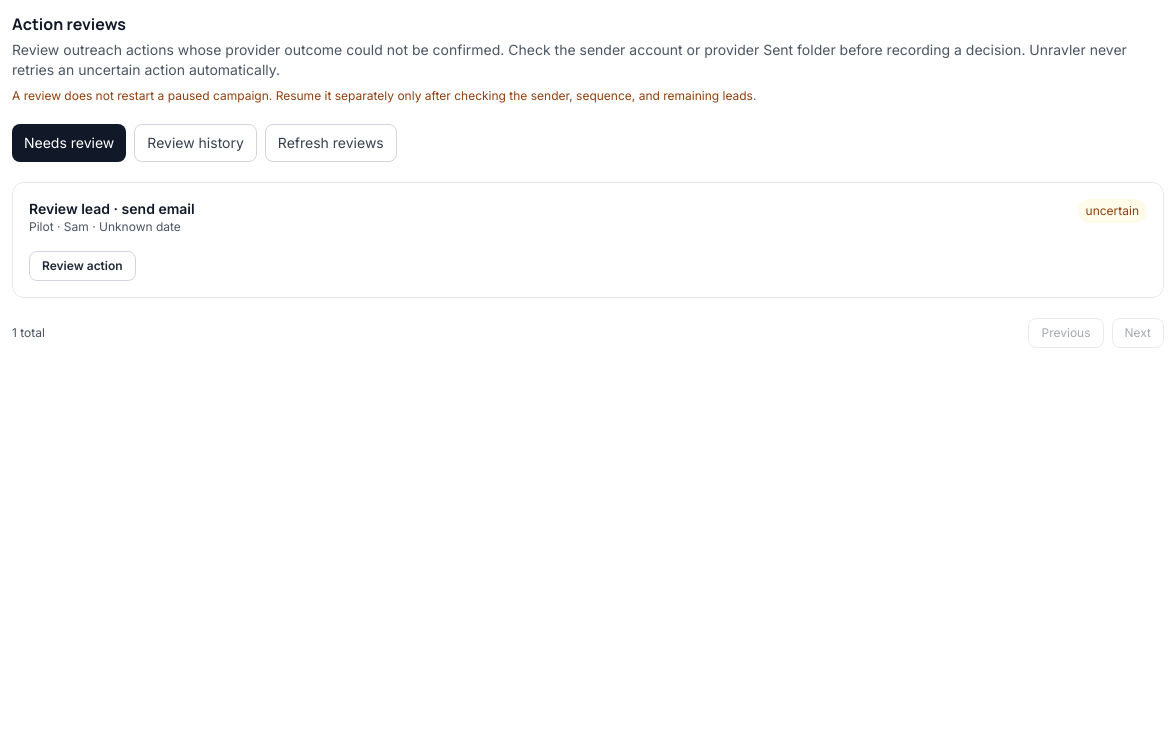
uncertain action review › does not offer a sent assertion when the email operation record is missing
The width and height of the screenshot is (1176, 732).
Click the button "Review action": coordinates (82, 266) [29,251,136,281]
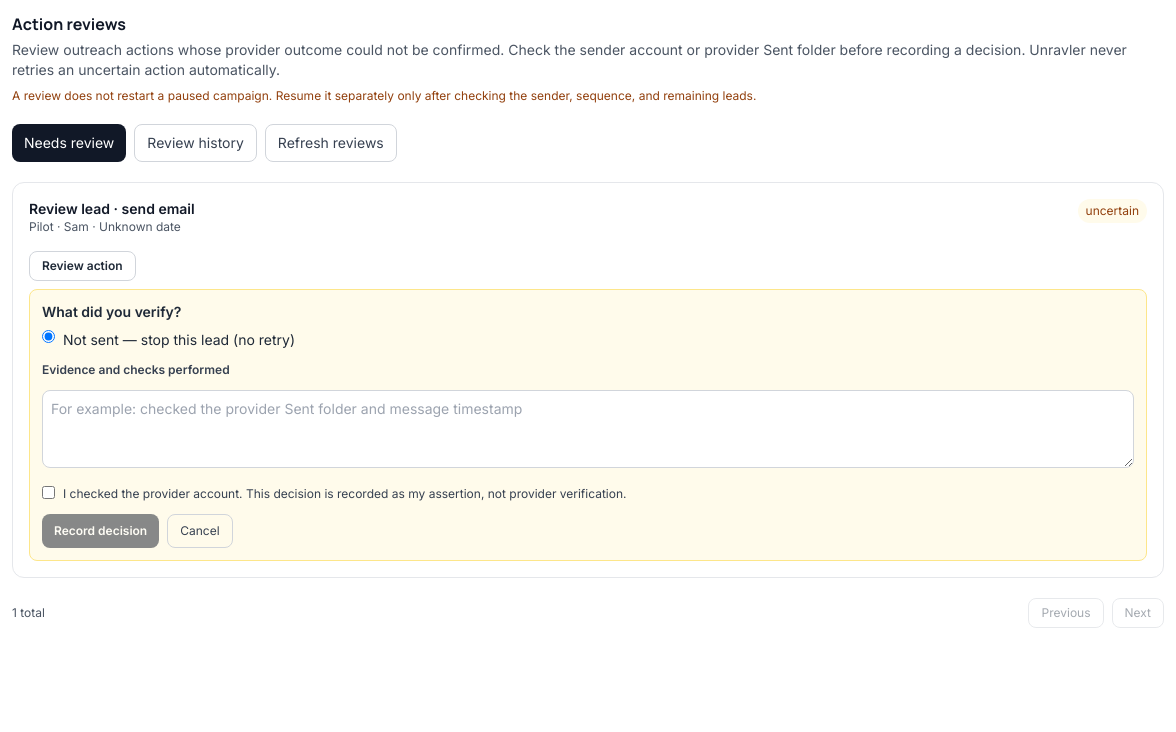
Check: the text "Not sent — stop this lead" is shown, box [63,331,295,348]
